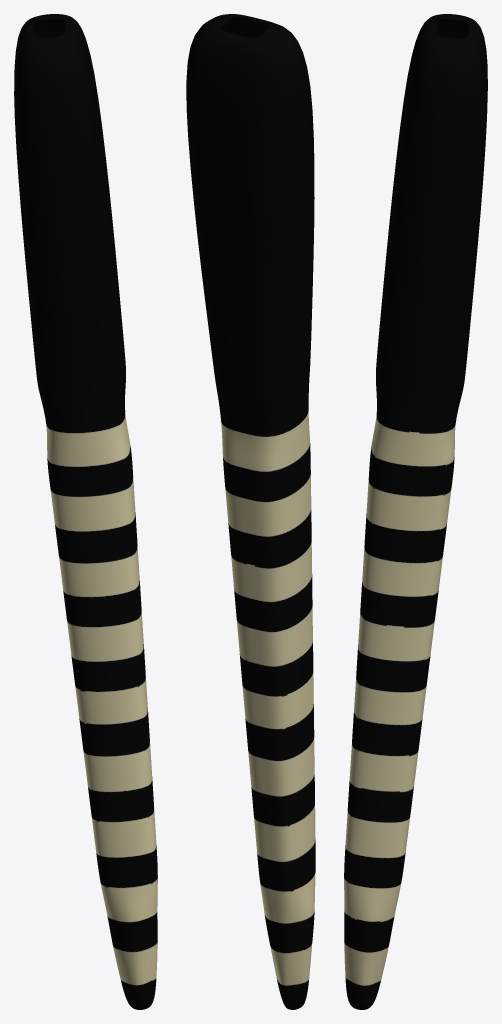
The model's file is mdlPieIzquierdoP.obj.
The picture shows the model from 3 angles, left to right: view 1: azimuth 90°, elevation 25°; view 2: azimuth 150°, elevation 25°; view 3: azimuth 270°, elevation 25°; orthographic projection. The views are drawn at different scales.
Visible parts, largest first — view 1: PiernaIzquierda; view 2: PiernaIzquierda; view 3: PiernaIzquierda.
Boxes of the visible parts, left/top/right/bottom form: PiernaIzquierda: left=14, top=14, right=157, bottom=1009; PiernaIzquierda: left=186, top=14, right=315, bottom=1009; PiernaIzquierda: left=344, top=14, right=487, bottom=1009.
Size of the model in its own units: 0.327 by 2.82 by 0.3746.
Materials: 1 (1 with a texture image).
